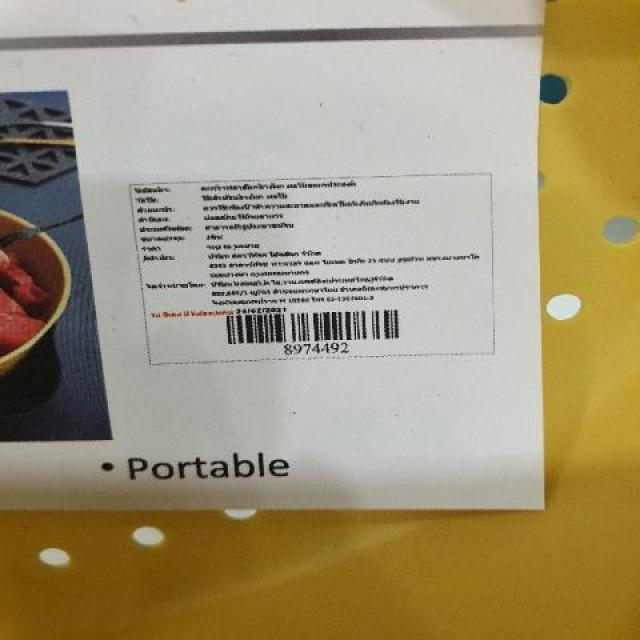Barcode: (219, 306, 408, 358)
